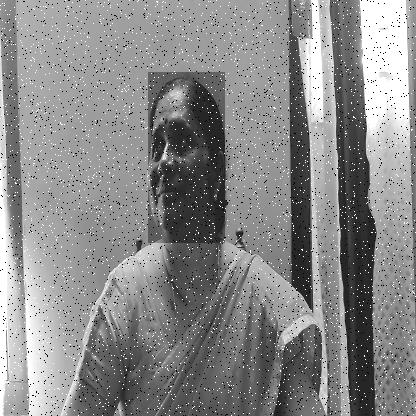Distracted: (148, 72, 225, 243)
